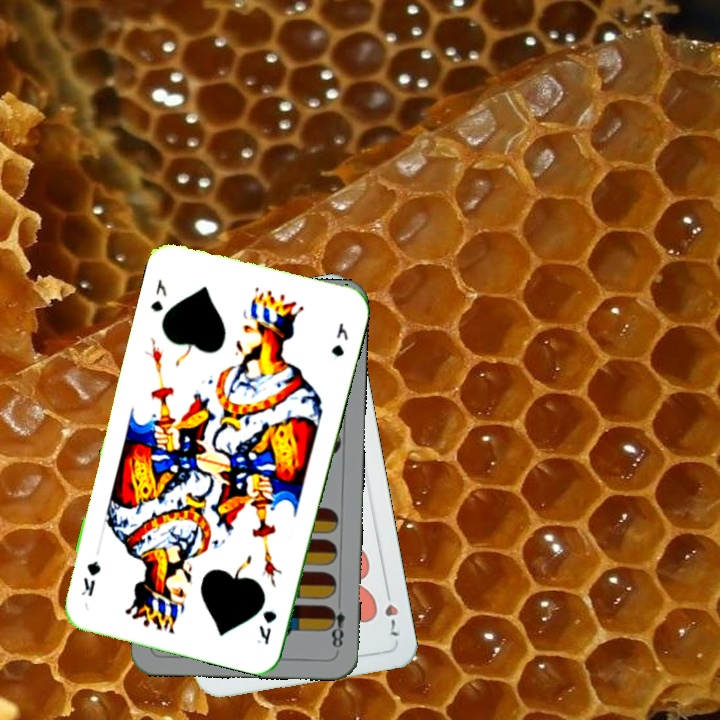E8: (324, 595, 347, 654)
GK: (253, 606, 279, 648), (146, 275, 169, 315)
H7: (381, 583, 403, 641)
